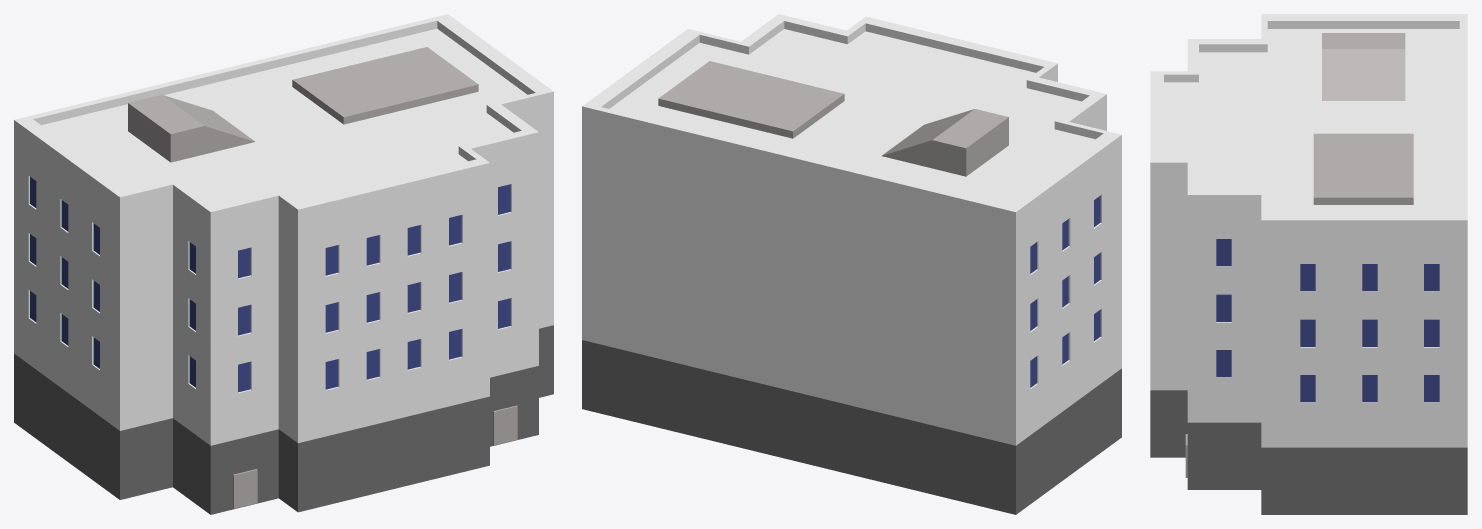
File: Building2_Asset 1.fbx
3 renders of one model, left to right at view 1: azimuth 30°, elevation 25°; view 2: azimuth 150°, elevation 25°; view 3: azimuth 270°, elevation 25°, orthographic. The views are drawn at different scales.
Visible parts, largest first — view 1: Building2_Asset; view 2: Building2_Asset; view 3: Building2_Asset.
Part boxes in pixels (<box>): Building2_Asset: <box>14,14,553,514</box>; Building2_Asset: <box>582,14,1121,514</box>; Building2_Asset: <box>1150,14,1467,514</box>.
Size of the model in its own units: 31.68 by 22.54 by 20.62.
1 material, 1 textured.
